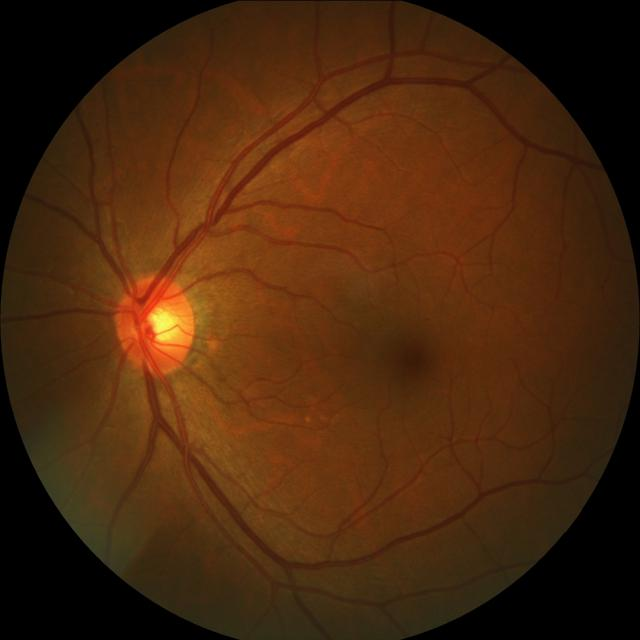OC: (133, 296, 178, 351)
OD: (112, 274, 194, 374)
